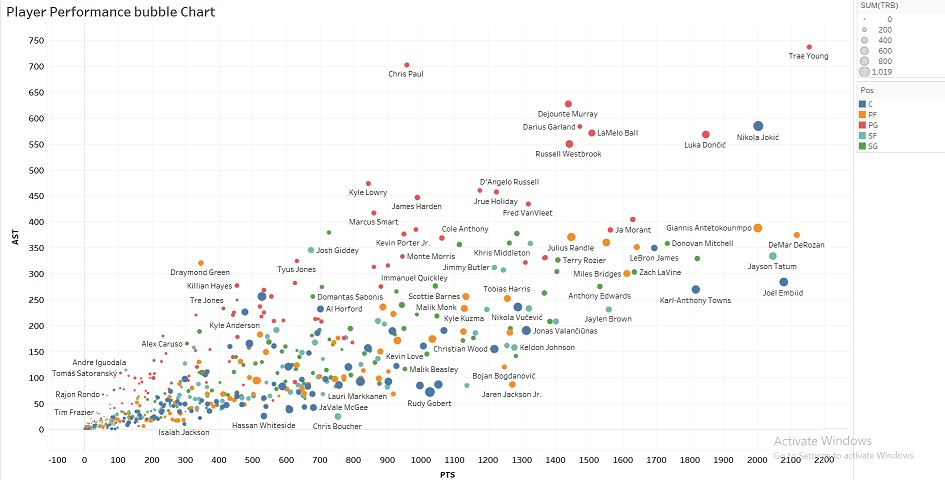

What the dashboard file says about the page in this screenshot:
{"tool":"tableau","page":{"name":"Picture","canvas":[1300,900],"ordinal":0},"visuals":[{"type":"image","param":"Image/perfect.JPG","box":[70,59,951,720]}]}

Visuals, with their boxes on the page's 1300x900 design canvas (x1, y1, x2, y2). These are canvas units, not pixel positions in the 945x480 screenshot, which may show the page scaled, cropped or inside an application window:
image: crop(70, 59, 1021, 779)
